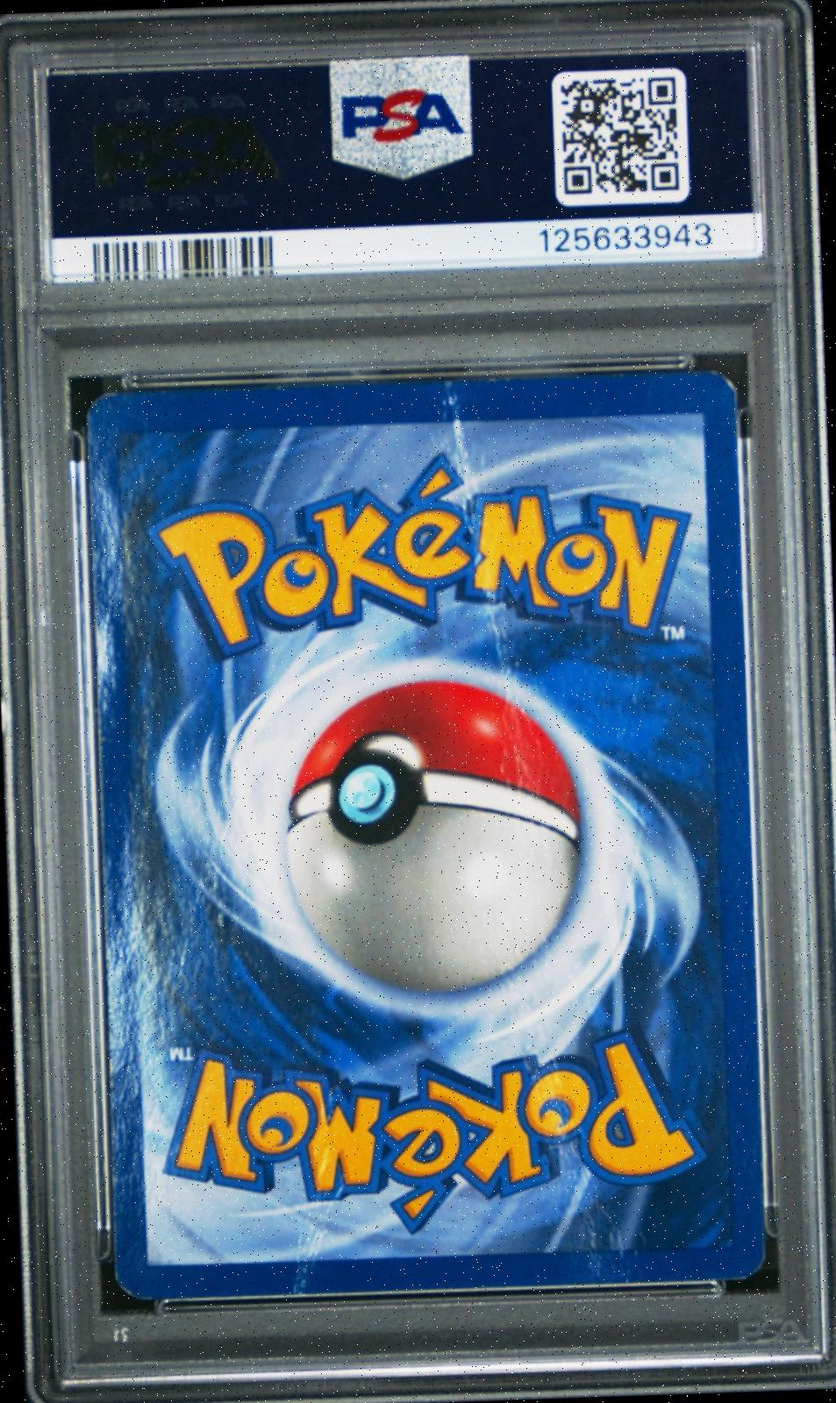card-2UtV: (84, 369, 766, 1301)
